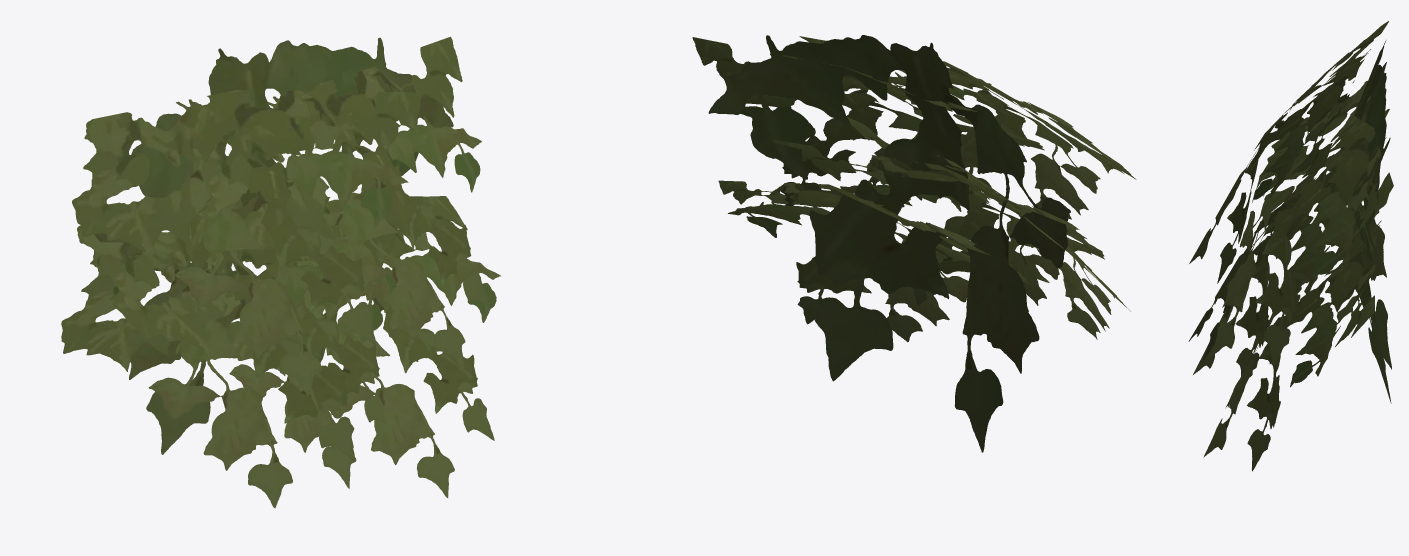
The picture shows the model from 3 angles, left to right: view 1: azimuth 30°, elevation 25°; view 2: azimuth 150°, elevation 25°; view 3: azimuth 270°, elevation 25°; orthographic projection. The views are drawn at different scales.
Parts seen in each view (by area): view 1: body0_model0_lod0_mesh1, body0_model0_lod0_mesh0; view 2: body0_model0_lod0_mesh0, body0_model0_lod0_mesh1; view 3: body0_model0_lod0_mesh1, body0_model0_lod0_mesh0.
Part boxes in pixels (x1,y1,x2,y2): body0_model0_lod0_mesh1: (61, 36, 500, 508); body0_model0_lod0_mesh0: (94, 37, 453, 454); body0_model0_lod0_mesh0: (708, 35, 1070, 452); body0_model0_lod0_mesh1: (692, 36, 1136, 342); body0_model0_lod0_mesh1: (1188, 21, 1393, 471); body0_model0_lod0_mesh0: (1328, 40, 1391, 403).
Size of the model in its own units: 59.53 by 55.82 by 22.71.
Materials: 2 (2 with a texture image).
